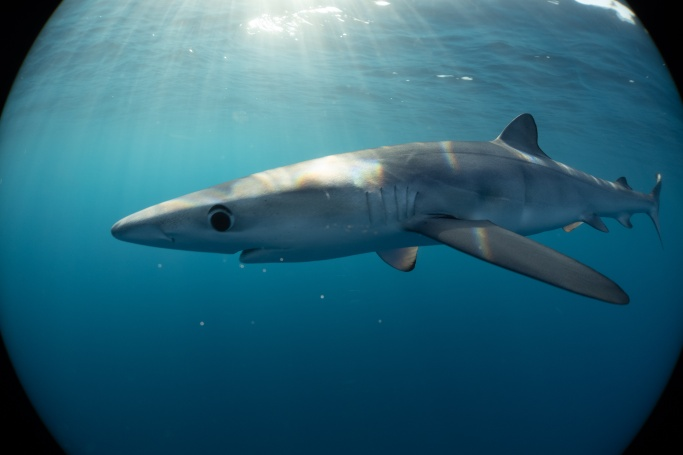Azul: (94, 93, 679, 331)
